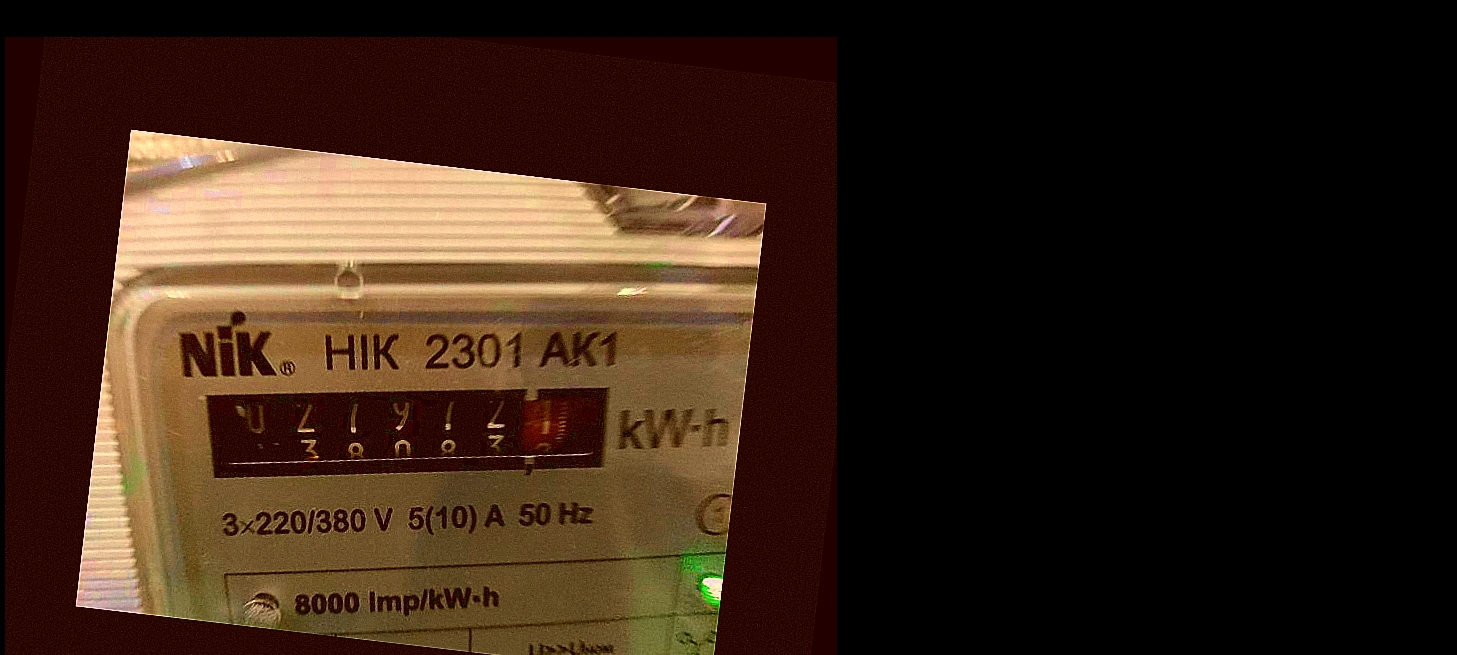0: (239, 397, 271, 436)
1: (534, 394, 560, 440)
2: (289, 394, 322, 436), (480, 392, 512, 432)
7: (433, 392, 463, 435), (339, 397, 366, 436)
9: (386, 395, 416, 433)
screen: (179, 330, 646, 536)
